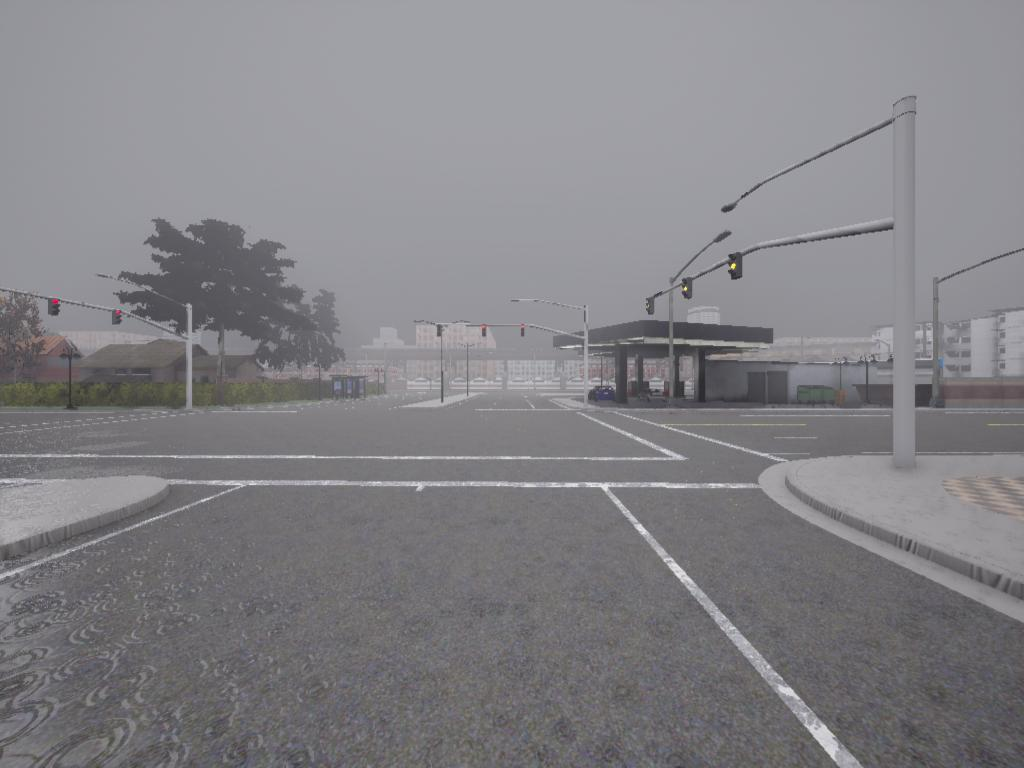traffic_light: (728, 256, 743, 282), (49, 300, 61, 318), (681, 282, 692, 300), (112, 311, 123, 325), (647, 297, 655, 316), (481, 326, 488, 337), (518, 327, 525, 337), (438, 325, 443, 339)
